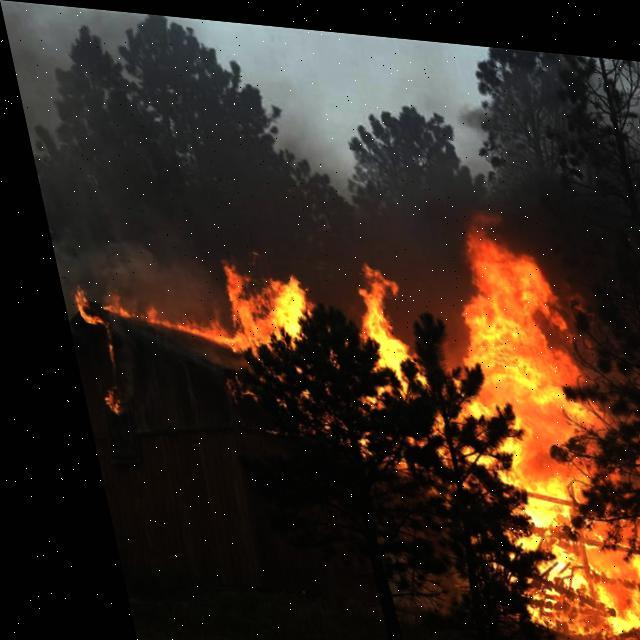Fire: (48, 183, 639, 639)
